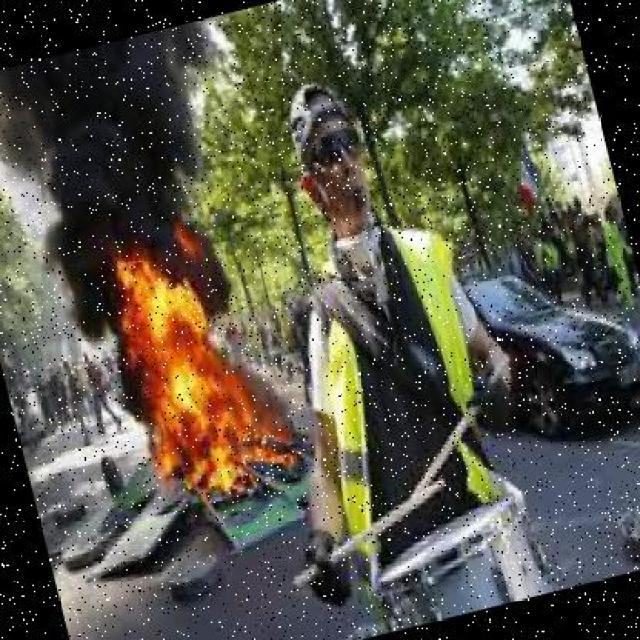fire: (75, 214, 311, 514)
